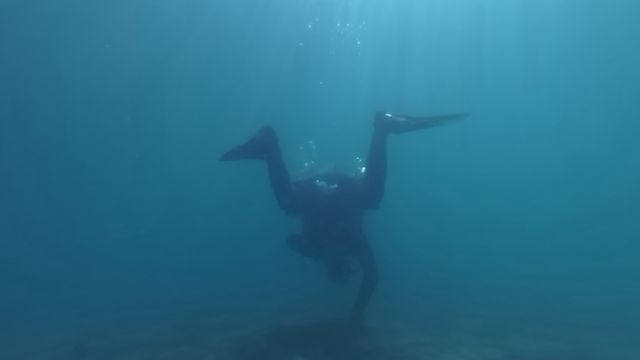Diver: (227, 86, 465, 334)
